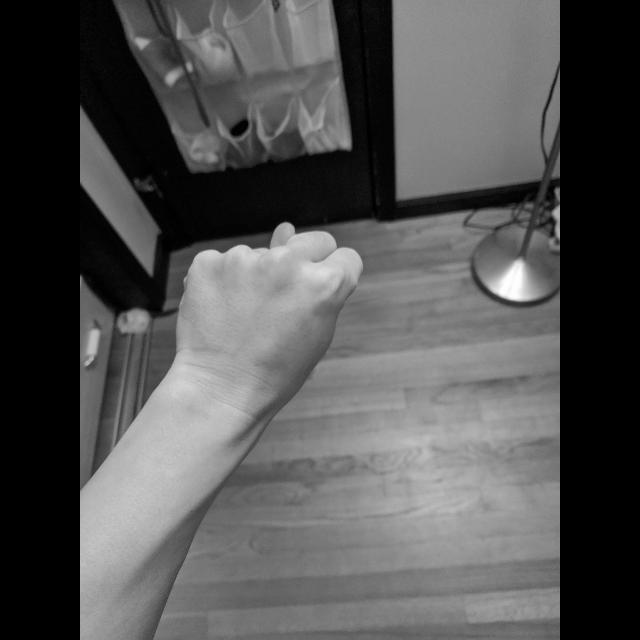N: (170, 218, 368, 414)
